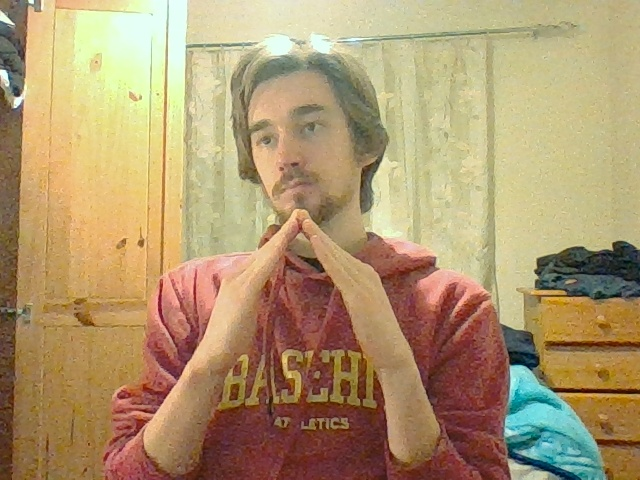home: (216, 209, 384, 318)
